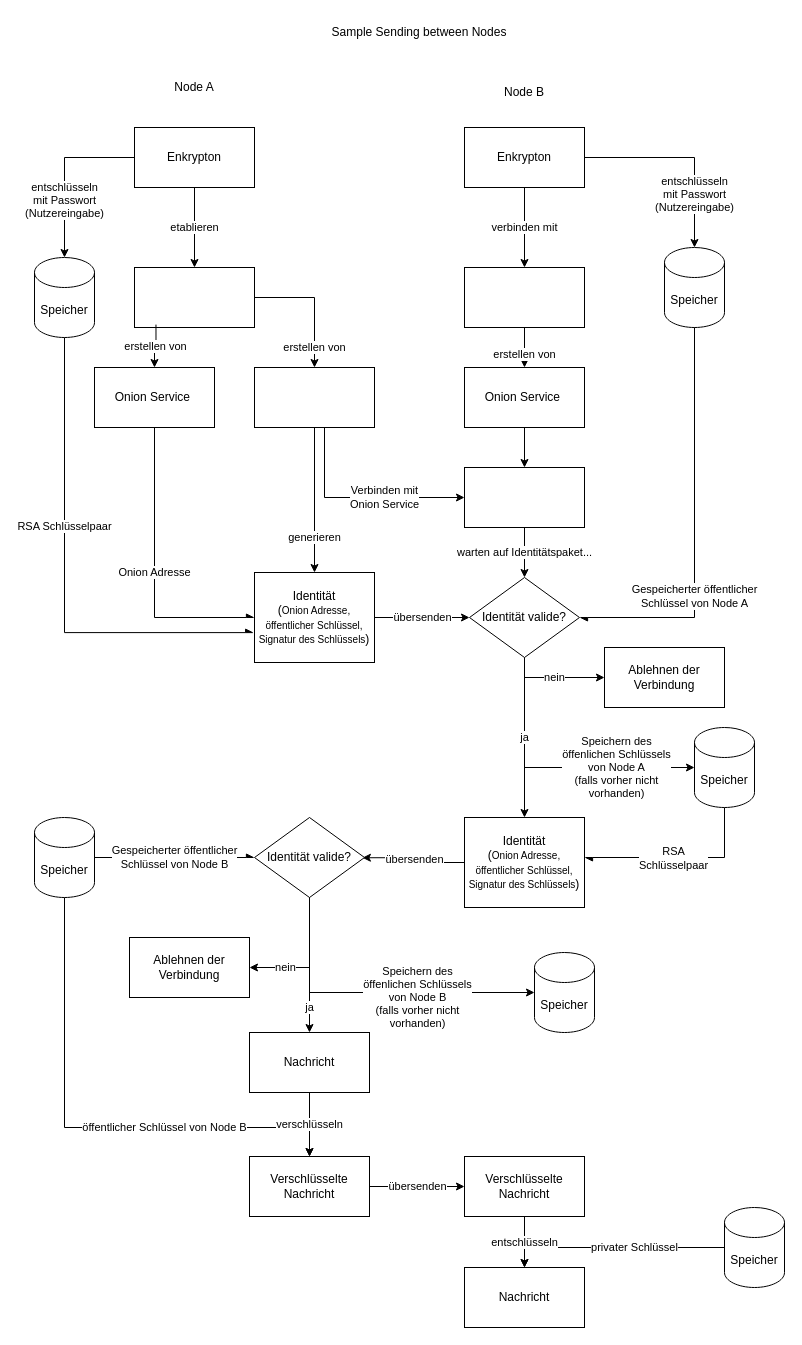
Some shapes in this 802 by 1345 pixel diagram are drawn without their labels. Here are the shapes that lost their labels. From the top down, the centre of each, then its label:
[194,297]: Tor Proxy
[524,297]: Tor
[314,397]: Tor Client
[524,497]: Websocket
